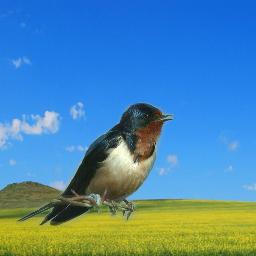Swallow: (16, 102, 174, 226)
